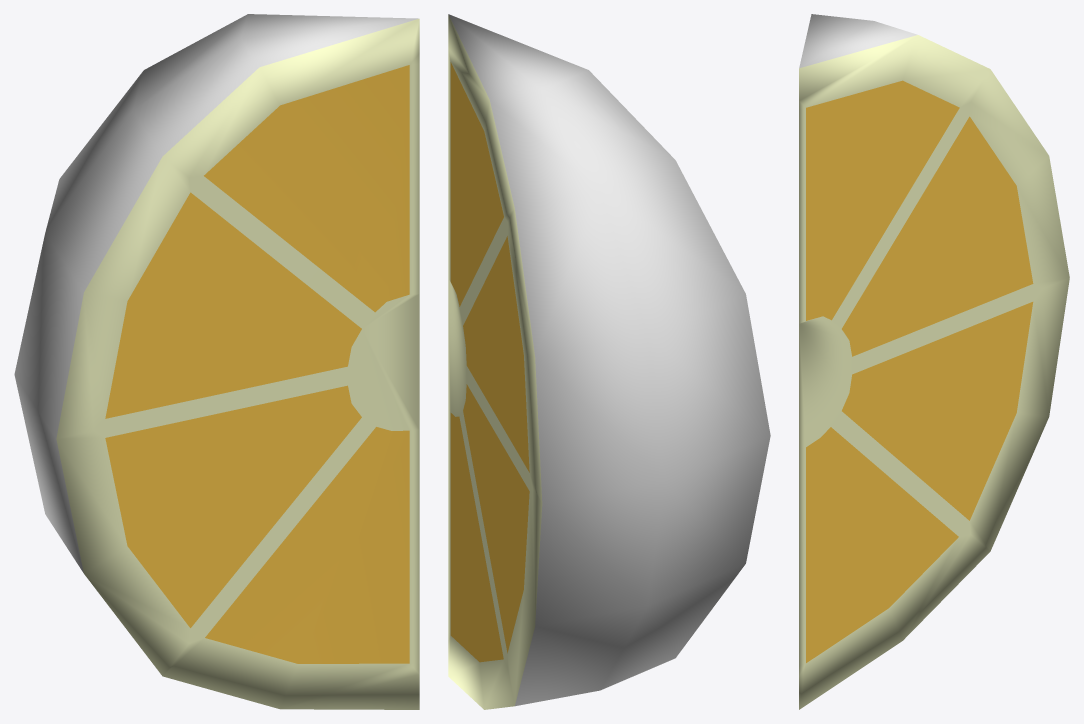
File: orange-slice.fbx
3 views of the same model, side by side, from view 1: azimuth 30°, elevation 25°; view 2: azimuth 150°, elevation 25°; view 3: azimuth 270°, elevation 25° (orthographic). The views are drawn at different scales.
Parts seen in each view (by area): view 1: Orange-slice; view 2: Orange-slice; view 3: Orange-slice.
Part boxes in pixels (<box>): Orange-slice: <box>14,14,419,709</box>; Orange-slice: <box>448,14,770,709</box>; Orange-slice: <box>799,14,1069,709</box>.
Size of the model in its own units: 99.59 by 188 by 71.94.
